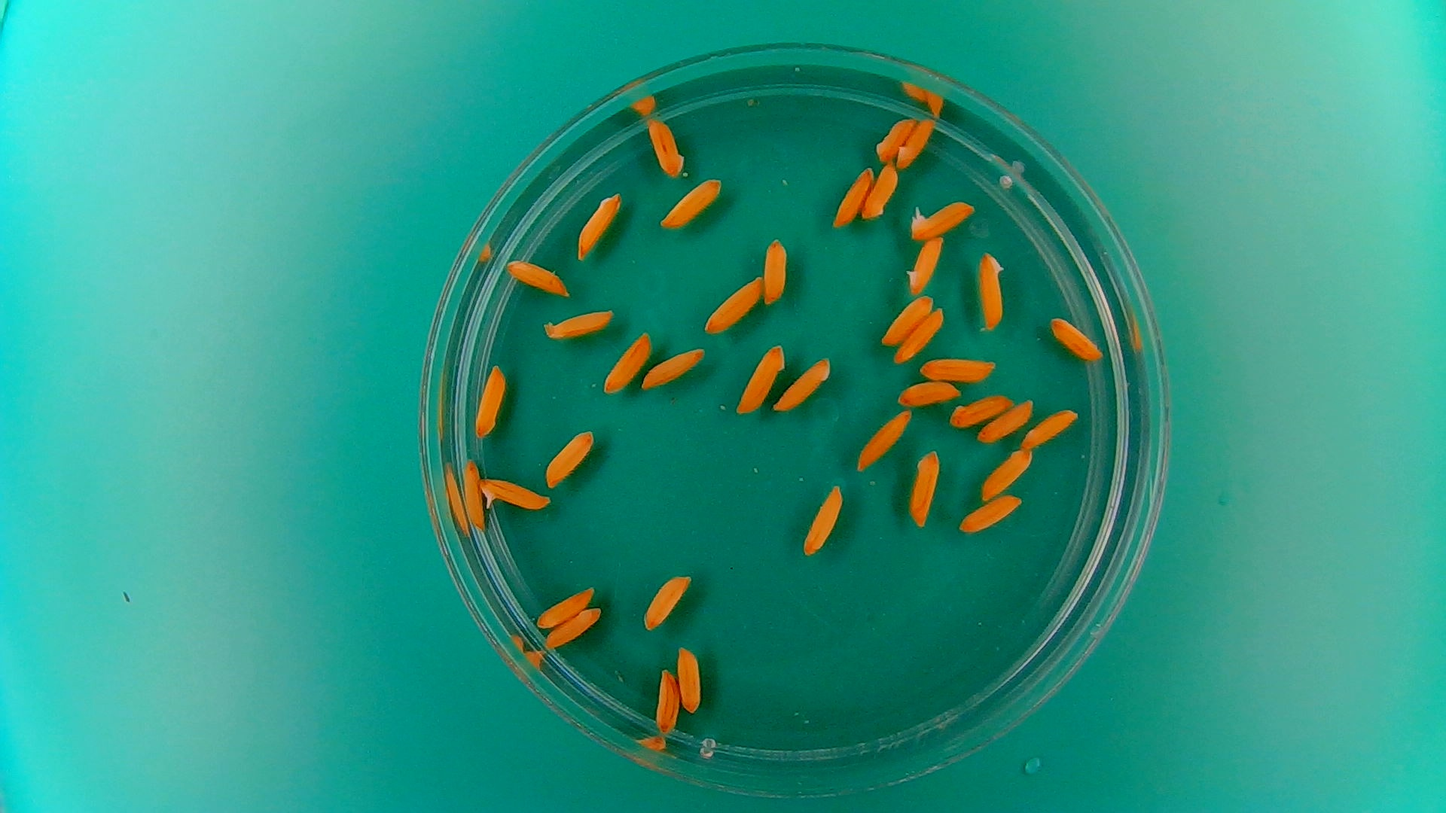no: (700, 274, 764, 335), (734, 342, 786, 416), (855, 407, 913, 473), (770, 354, 834, 412), (800, 481, 845, 558), (658, 177, 724, 229), (575, 190, 623, 259), (602, 329, 652, 395), (542, 428, 596, 489), (640, 571, 693, 632), (894, 306, 946, 366), (640, 345, 706, 391), (978, 447, 1034, 501), (471, 361, 508, 440), (880, 293, 935, 346), (1045, 315, 1105, 363), (956, 492, 1024, 534), (1017, 406, 1080, 451), (907, 446, 942, 527), (831, 165, 874, 230), (533, 584, 596, 628), (978, 397, 1036, 444), (542, 604, 602, 649), (505, 257, 570, 298), (643, 115, 685, 178), (915, 354, 999, 385), (535, 311, 617, 342), (905, 236, 946, 296), (977, 249, 1007, 330), (947, 392, 1014, 428), (896, 116, 938, 169), (863, 162, 899, 221), (874, 114, 917, 163), (761, 235, 789, 306), (460, 457, 486, 532), (676, 643, 703, 714), (653, 665, 680, 735), (895, 378, 962, 406)
yes: (475, 473, 552, 513), (908, 197, 978, 240)
